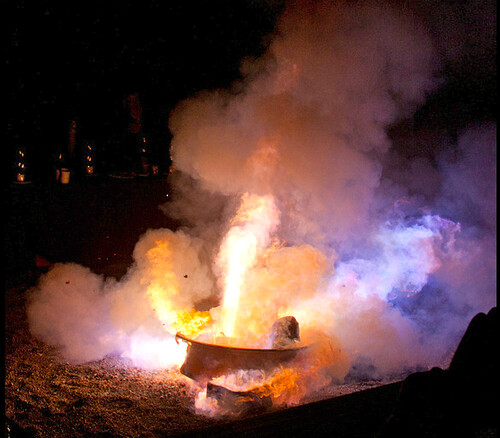fireplace: (156, 275, 316, 418)
smoke: (45, 2, 500, 364)
